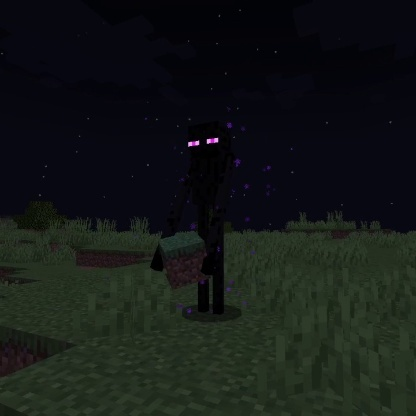enderman: (148, 117, 240, 319)
